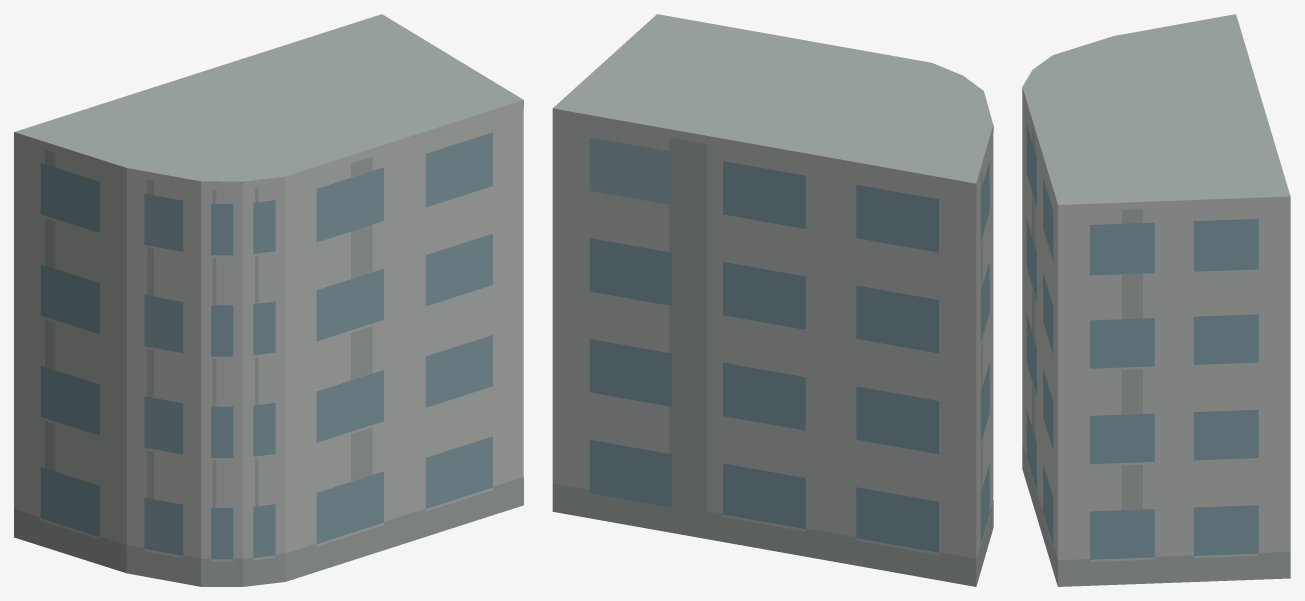
The model's file is survey-upis-32846124.glb.
3 views of the same model, side by side, from view 1: azimuth 30°, elevation 25°; view 2: azimuth 150°, elevation 25°; view 3: azimuth 270°, elevation 25° (orthographic). The views are drawn at different scales.
Visible parts, largest first — view 1: survey-upis-32846124.tmp; view 2: survey-upis-32846124.tmp; view 3: survey-upis-32846124.tmp.
Boxes of the visible parts, x1,y1,x2,y2 form: survey-upis-32846124.tmp: [14, 14, 523, 586]; survey-upis-32846124.tmp: [552, 14, 993, 586]; survey-upis-32846124.tmp: [1022, 14, 1290, 586].
Bounding box in the file's own units: 13.09 × 12.2 × 7.78.
